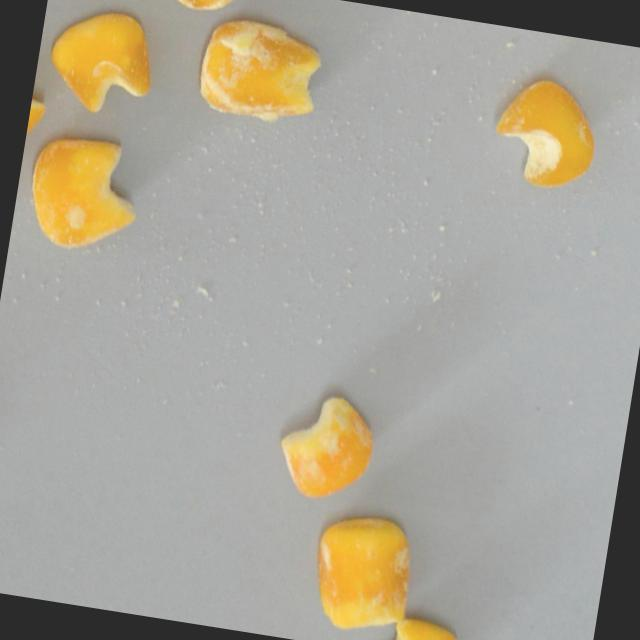dañado: (189, 9, 331, 135), (483, 65, 609, 201), (302, 502, 424, 640), (36, 0, 165, 122), (266, 380, 386, 511), (20, 35, 60, 172), (135, 0, 258, 23)
pelicula: (14, 125, 153, 262)
